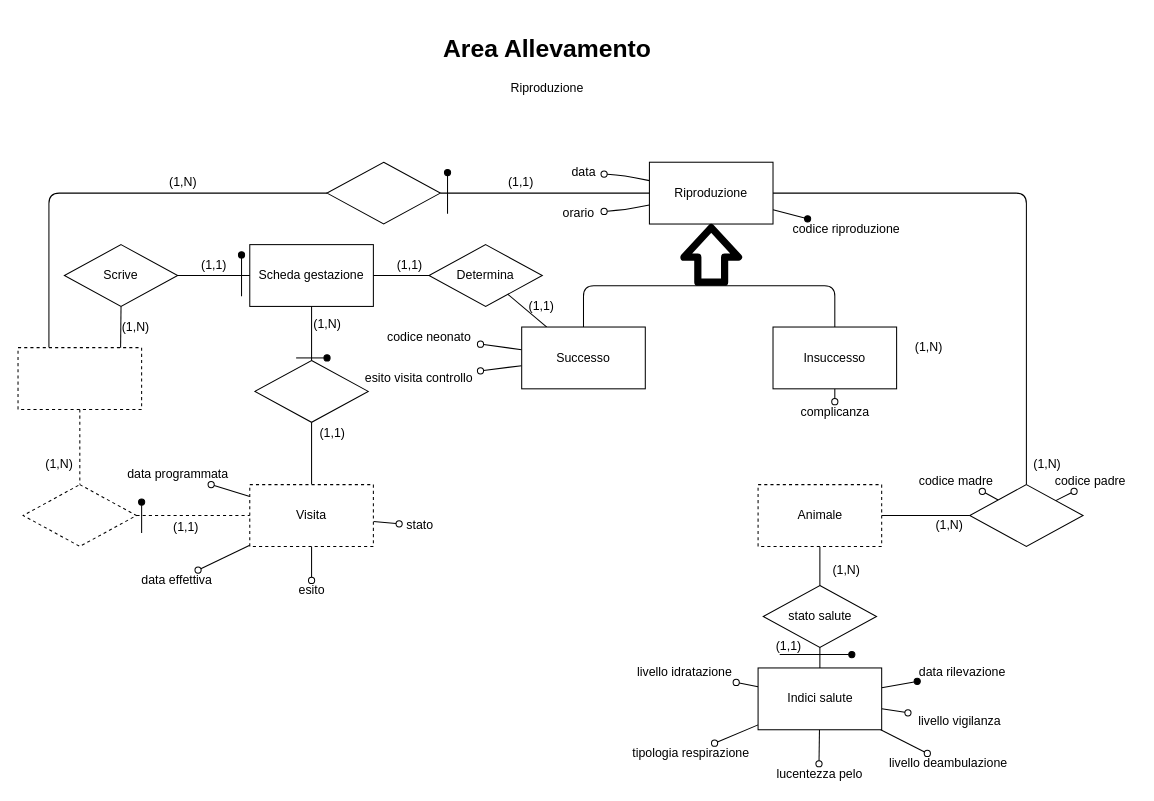
Some shapes in this 1154 by 801 pixel diagram are drawn without their labels. The shapes that lost their labels are listed below. From the top down, each one's centre as x and y in pixels, then its label:
the point at 383,192: Supervisiona
the point at 79,378: Veterinario
the point at 311,390: Controlli effettuati
the point at 79,515: Esegue
the point at 1026,515: coinvolge
